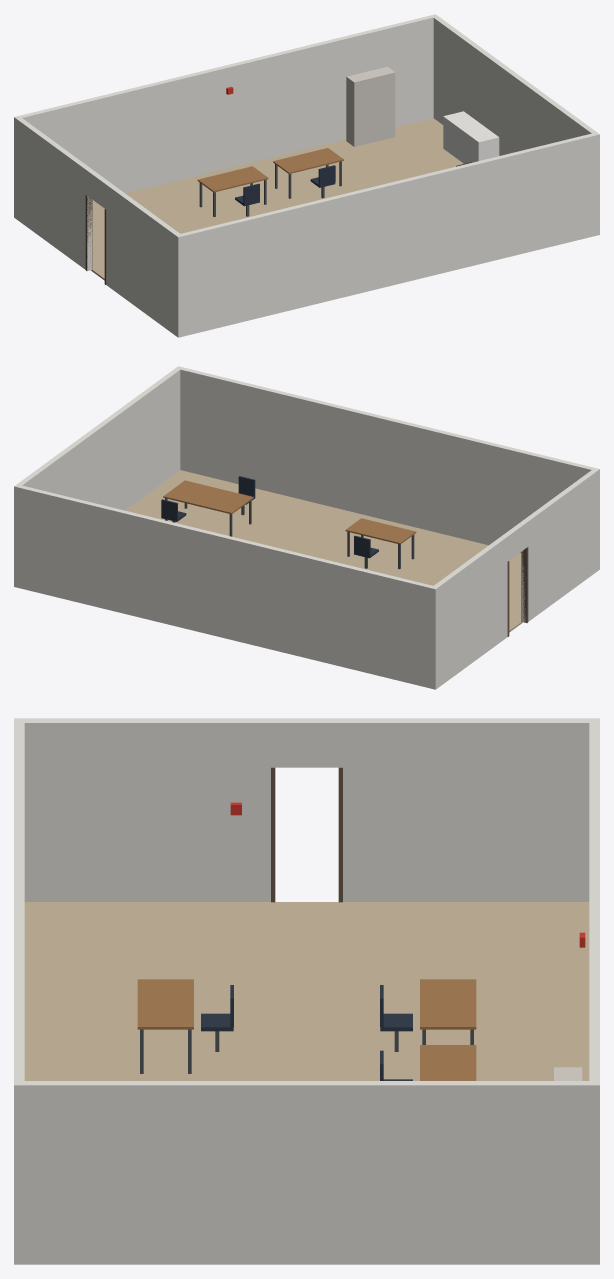
The model's file is demo-office.glb.
3 renders of one model, top to bottom at view 1: azimuth 30°, elevation 25°; view 2: azimuth 150°, elevation 25°; view 3: azimuth 270°, elevation 25°, orthographic. The views are drawn at different scales.
Parts seen in each view (by area): view 1: wall_south, wall_north, wall_west (×2), floor, wall_east, shelf_1_body, kitchenette_body, desk_1_top, desk_2_top, entrance_header, entrance_frame; view 2: wall_north, wall_south, wall_west (×2), floor, wall_east, meeting_table_top, desk_3_top, entrance_header, entrance_frame; view 3: wall_east, floor, wall_west (×2), wall_north, wall_south, entrance_header, desk_1_top, desk_3_top, desk_2_top.
Boxes of the visible parts, x1,y1,x2,y2 form: wall_south: (175, 132, 599, 337); wall_north: (14, 14, 437, 219); wall_west (×2): (17, 118, 179, 335); floor: (91, 118, 463, 280); wall_east: (433, 16, 596, 155); shelf_1_body: (346, 66, 395, 146); kitchenette_body: (443, 111, 499, 163); desk_1_top: (197, 166, 268, 192); desk_2_top: (273, 148, 343, 173); entrance_header: (87, 169, 109, 208); entrance_frame: (85, 195, 92, 270); wall_north: (14, 484, 438, 689); wall_south: (176, 366, 599, 571); wall_west (×2): (434, 470, 596, 687); floor: (125, 470, 522, 632); wall_east: (17, 368, 180, 510); meeting_table_top: (163, 480, 253, 514); desk_3_top: (345, 518, 416, 544); entrance_header: (504, 521, 526, 560); entrance_frame: (521, 547, 528, 622); wall_east: (24, 1081, 589, 1264); floor: (24, 902, 589, 1080); wall_west (×2): (24, 718, 589, 901); wall_north: (589, 718, 599, 1264); wall_south: (14, 718, 24, 1264); entrance_header: (275, 718, 338, 767); desk_1_top: (420, 979, 476, 1029); desk_3_top: (137, 979, 193, 1029); desk_2_top: (420, 1045, 476, 1080).
Size of the model in its own units: 12.31 by 2.85 by 8.3.
